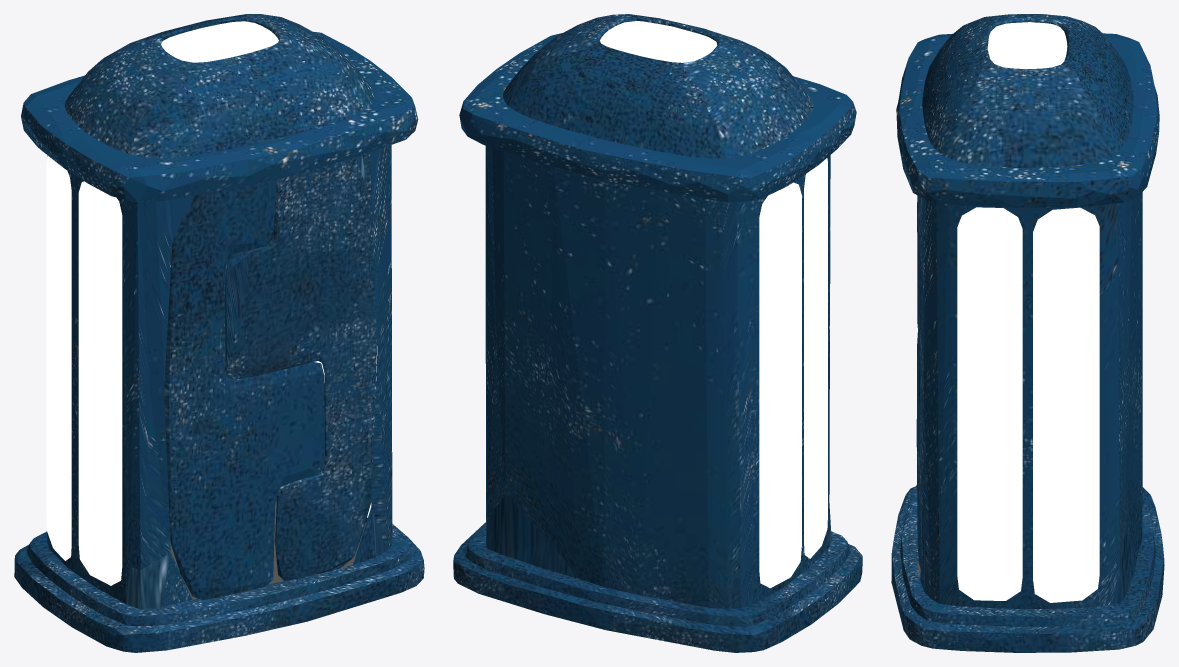
Rendered from Nav_002.fbx.
3 views of the same model, side by side, from view 1: azimuth 30°, elevation 25°; view 2: azimuth 150°, elevation 25°; view 3: azimuth 270°, elevation 25° (orthographic).
Visible parts, largest first — view 1: Nav_Corpo, Nav_portaS, Nav_portaD; view 2: Nav_Corpo; view 3: Nav_Corpo, Nav_portaD, Nav_portaS.
Boxes of the visible parts, x1,y1,x2,y2 form: Nav_Corpo: (14, 14, 424, 652); Nav_portaS: (164, 179, 324, 600); Nav_portaD: (224, 152, 376, 581); Nav_Corpo: (453, 14, 862, 652); Nav_Corpo: (891, 14, 1164, 652); Nav_portaD: (917, 195, 923, 568); Nav_portaS: (916, 332, 920, 529).
Bounding box in the file's own units: 144 × 224 × 104.
